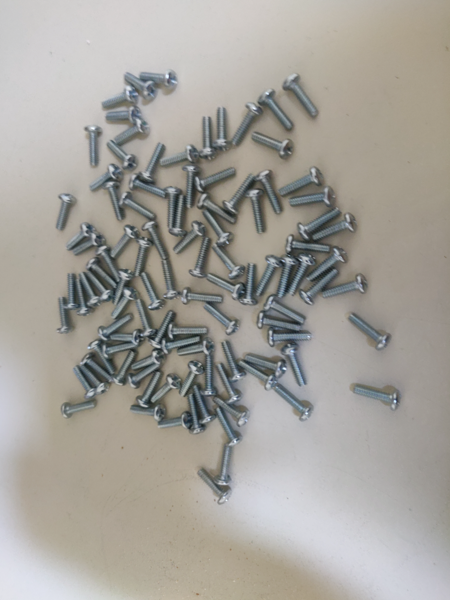shortscrew: (284, 74, 320, 118), (274, 385, 315, 423), (349, 314, 391, 351), (307, 246, 349, 283), (259, 88, 295, 131), (297, 208, 342, 241), (300, 269, 341, 304), (231, 103, 262, 147), (313, 214, 359, 243), (280, 167, 325, 196), (224, 174, 255, 216), (198, 468, 233, 505), (213, 242, 246, 280), (251, 131, 295, 159), (353, 384, 400, 410), (321, 274, 369, 299), (265, 295, 306, 324), (202, 210, 234, 247), (198, 194, 237, 224), (204, 304, 240, 336), (255, 170, 281, 214), (256, 255, 283, 297), (213, 397, 250, 427), (240, 361, 277, 391), (215, 406, 242, 447), (289, 254, 315, 296), (149, 310, 176, 350), (282, 343, 306, 387), (246, 356, 288, 381), (107, 139, 139, 171), (276, 255, 299, 299), (88, 340, 116, 376), (195, 168, 237, 192), (222, 341, 246, 383), (142, 221, 168, 259), (139, 145, 164, 184), (189, 237, 212, 279), (179, 361, 205, 398), (83, 353, 115, 383), (213, 107, 234, 152), (98, 315, 134, 341), (87, 258, 118, 288), (80, 363, 109, 395), (150, 374, 182, 403), (86, 271, 115, 303), (112, 350, 137, 387), (90, 164, 123, 192), (111, 225, 139, 258), (267, 328, 313, 348), (290, 186, 336, 206), (141, 271, 164, 311), (218, 364, 241, 404), (115, 119, 149, 146), (129, 174, 165, 199), (124, 73, 157, 100), (137, 372, 161, 409), (102, 86, 139, 110), (245, 189, 265, 233), (258, 312, 302, 332), (136, 299, 158, 339), (214, 444, 234, 486), (187, 393, 207, 435), (103, 181, 124, 221), (160, 145, 198, 167), (73, 231, 105, 257), (169, 195, 188, 238), (240, 264, 259, 307), (285, 235, 333, 252), (66, 223, 95, 251), (161, 260, 181, 300), (128, 364, 160, 389), (134, 237, 153, 278), (165, 187, 183, 230), (84, 125, 102, 167), (183, 166, 201, 208), (75, 366, 97, 400), (80, 273, 102, 307), (61, 400, 98, 420), (56, 194, 76, 231), (199, 118, 216, 161), (181, 288, 224, 305), (167, 323, 209, 340), (178, 338, 215, 357), (140, 71, 178, 89), (158, 411, 193, 430), (130, 403, 166, 421), (76, 278, 93, 316), (133, 350, 165, 370), (105, 107, 142, 124), (58, 297, 73, 334), (65, 274, 79, 310)
